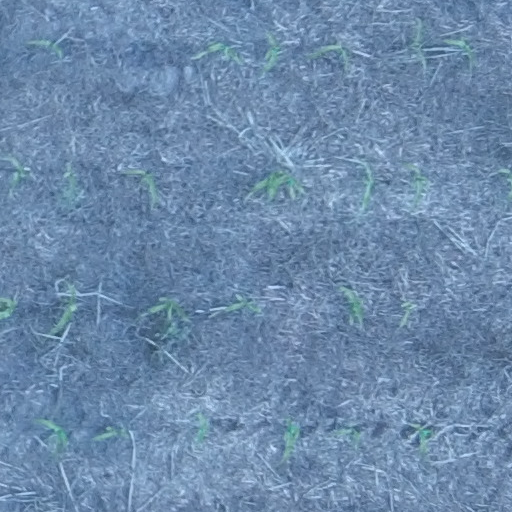planta: (42, 278, 80, 340), (120, 165, 162, 210), (31, 414, 71, 461), (303, 38, 354, 74), (398, 158, 432, 212), (244, 165, 291, 204), (439, 33, 479, 73), (333, 282, 368, 327), (144, 293, 191, 326), (405, 419, 440, 463), (191, 38, 245, 65), (277, 413, 303, 467), (406, 17, 430, 68), (357, 158, 379, 213), (258, 29, 283, 76), (5, 151, 33, 190), (58, 162, 82, 206), (220, 292, 263, 316), (329, 423, 364, 452), (25, 35, 65, 58), (283, 169, 309, 204), (90, 423, 131, 444), (191, 410, 212, 447), (395, 296, 418, 329)
